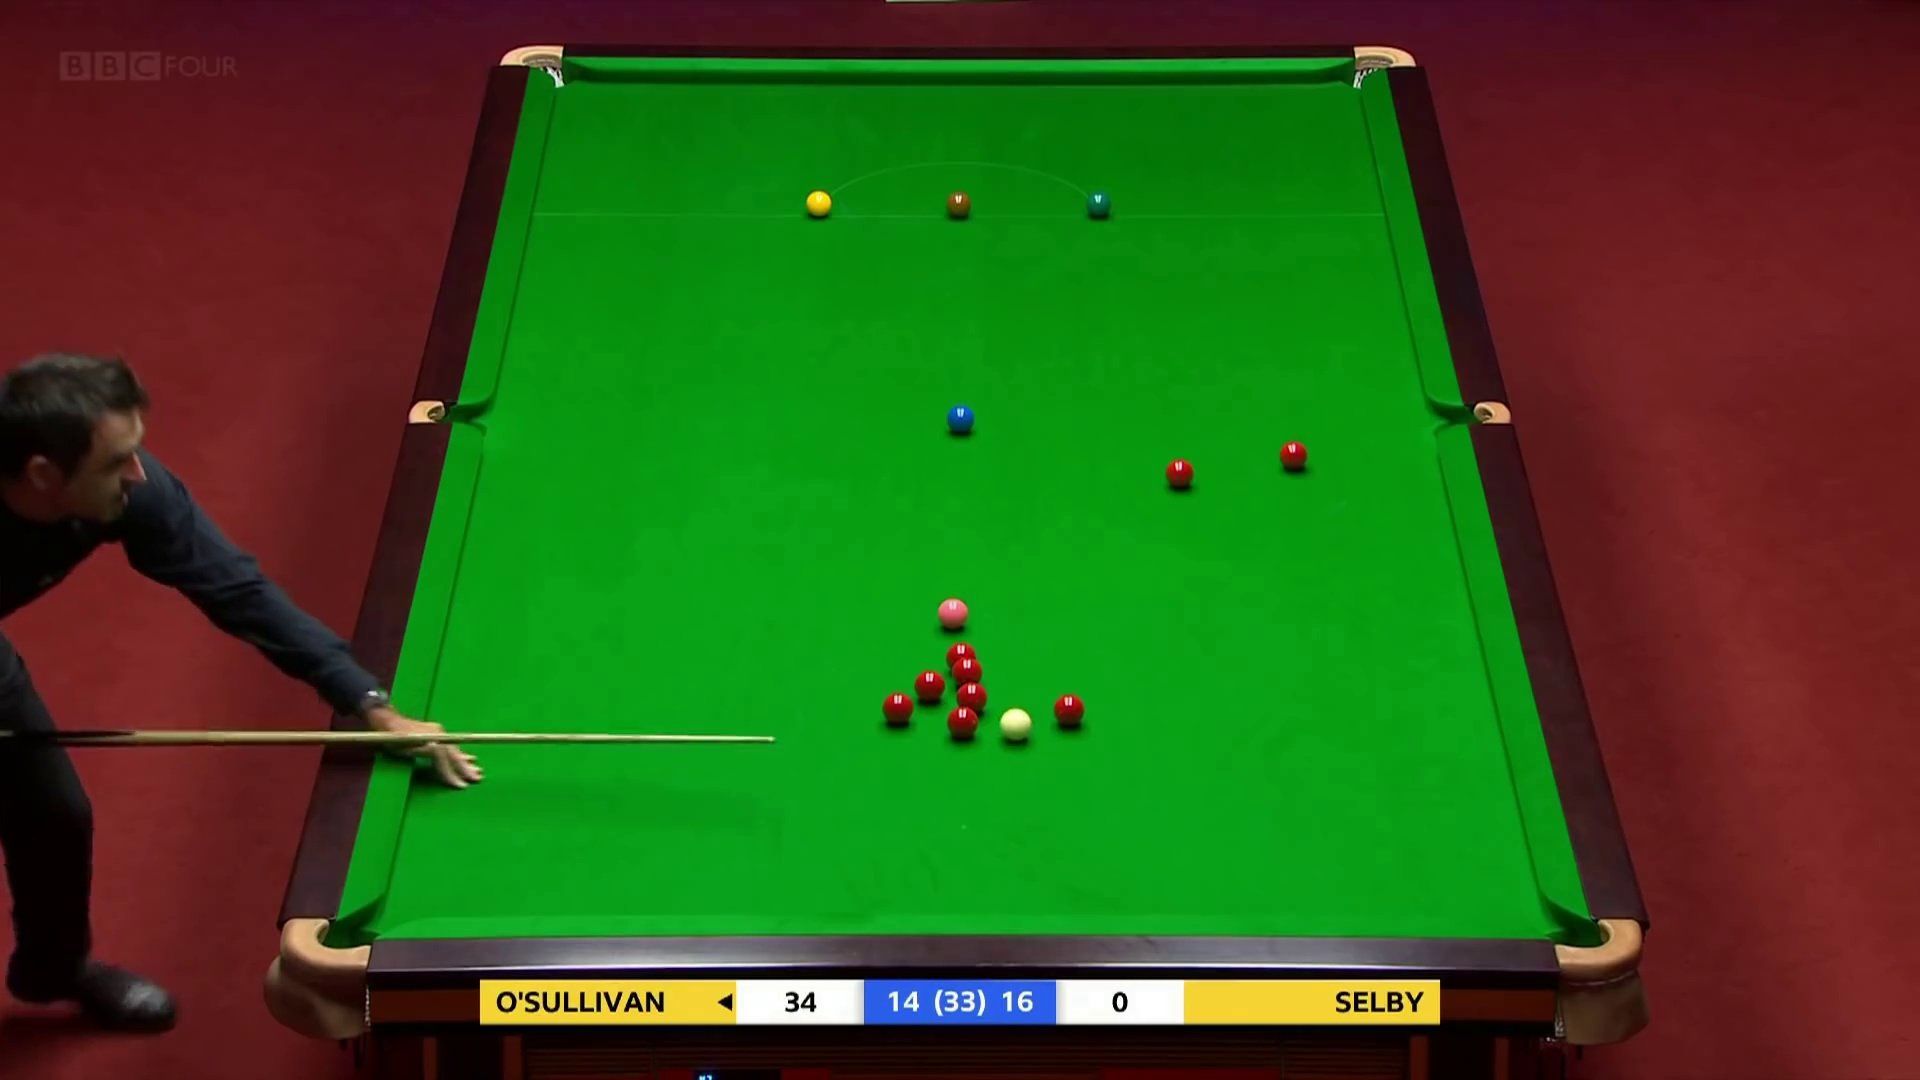blue: (945, 404, 978, 439)
brown: (942, 189, 978, 228)
green: (1083, 186, 1116, 222)
pink: (931, 593, 973, 638)
red: (910, 669, 955, 712), (878, 687, 919, 735), (942, 702, 982, 749), (1050, 691, 1092, 736), (945, 655, 989, 696), (940, 641, 982, 680), (953, 680, 990, 720), (1160, 454, 1197, 492), (1276, 436, 1311, 476)
white: (997, 705, 1034, 745)
yellow: (804, 187, 836, 223)
